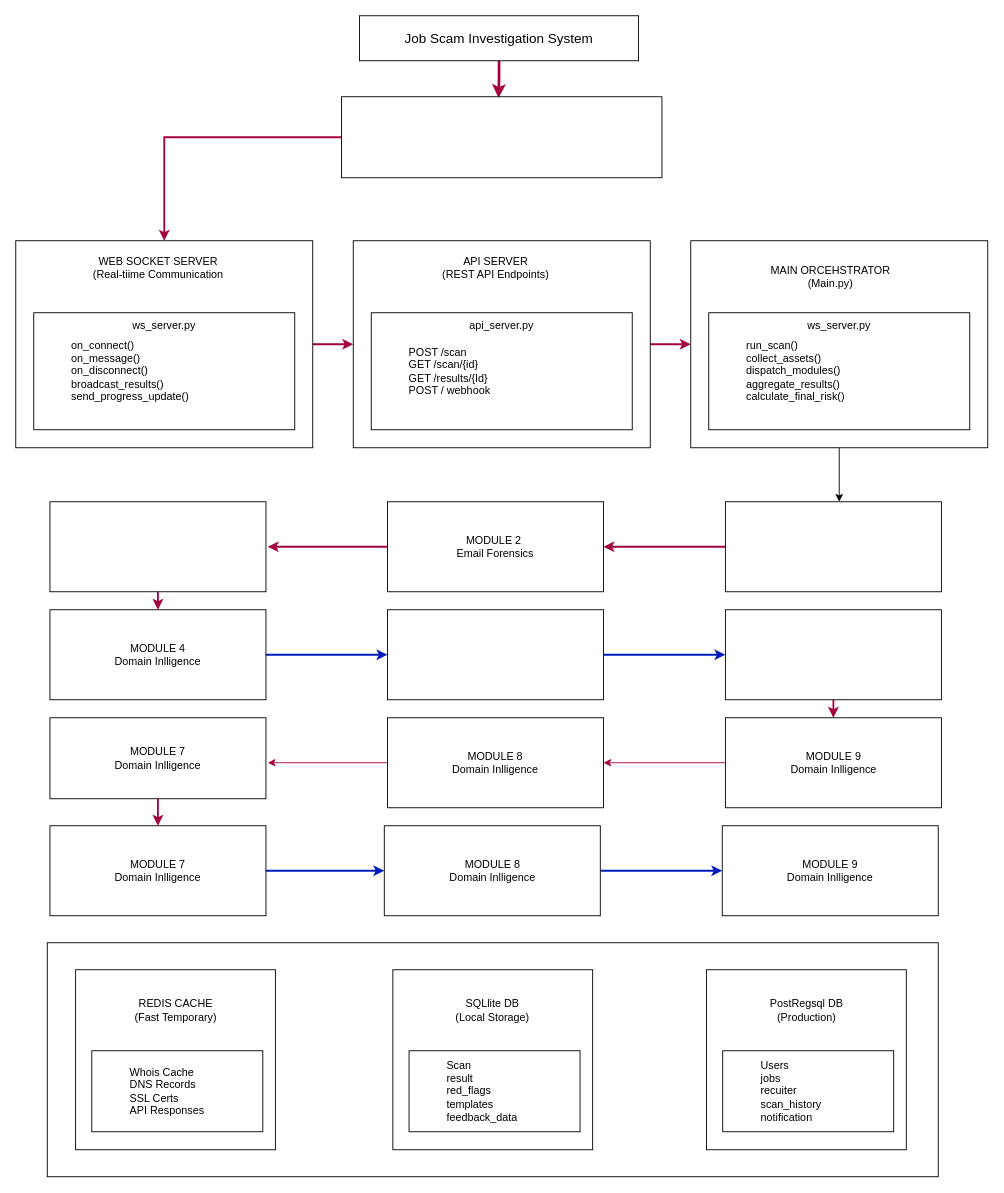
This 1004x1193 diagram has some shape labels left out. Each missing label, with the centre of its shape:
"MODULE 1 Domain Inlligence" belongs at (x=832, y=546).
"MODULE 3 Infra Mapping" belongs at (x=157, y=546).
"MODULE 5 Domain Inlligence" belongs at (x=495, y=654).
"MODULE 6 Domain Inlligence" belongs at (x=832, y=654).
"User / API Inputs Job URL | Email | Company | Recuiter Into" belongs at (x=501, y=137).
